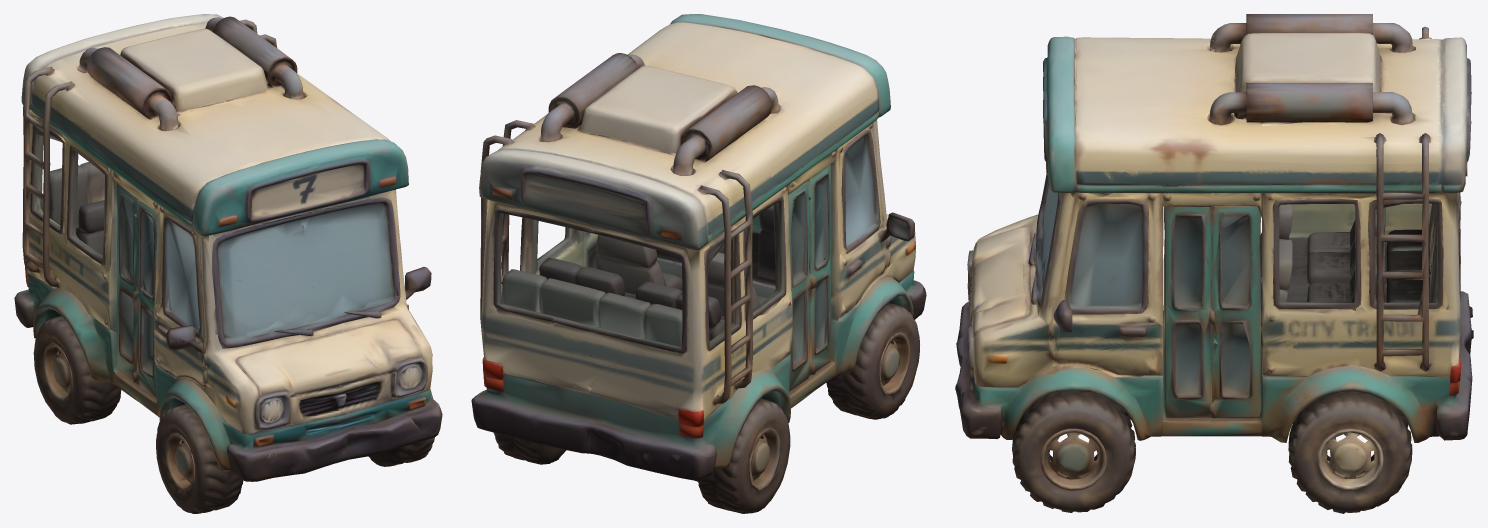
The model's file is city_bus.glb.
3 views of the same model, side by side, from view 1: azimuth 30°, elevation 25°; view 2: azimuth 150°, elevation 25°; view 3: azimuth 270°, elevation 25° (orthographic). The views are drawn at different scales.
Parts seen in each view (by area): view 1: tripo_part_1, tripo_part_0, tripo_part_8, tripo_part_7, tripo_part_2, tripo_part_6, tripo_part_19, tripo_part_15, tripo_part_9, tripo_part_13, tripo_part_5, tripo_part_34 (+8 smaller); view 2: tripo_part_1, tripo_part_0, tripo_part_2, tripo_part_6, tripo_part_7, tripo_part_5, tripo_part_19, tripo_part_9, tripo_part_15, tripo_part_24, tripo_part_20, tripo_part_22 (+11 smaller); view 3: tripo_part_1, tripo_part_0, tripo_part_2, tripo_part_10, tripo_part_7, tripo_part_4, tripo_part_3, tripo_part_17, tripo_part_22, tripo_part_29, tripo_part_14, tripo_part_43 (+7 smaller).
Part boxes in pixels (bbox=[...]): tripo_part_1: bbox=[21, 14, 432, 433]; tripo_part_0: bbox=[14, 274, 442, 513]; tripo_part_8: bbox=[212, 196, 400, 348]; tripo_part_7: bbox=[31, 87, 408, 241]; tripo_part_2: bbox=[76, 16, 306, 131]; tripo_part_6: bbox=[117, 184, 157, 398]; tripo_part_19: bbox=[33, 315, 121, 424]; tripo_part_15: bbox=[162, 215, 202, 339]; tripo_part_9: bbox=[22, 66, 75, 288]; tripo_part_13: bbox=[290, 372, 396, 424]; tripo_part_5: bbox=[43, 162, 104, 238]; tripo_part_34: bbox=[66, 145, 107, 265]; tripo_part_1: bbox=[479, 22, 915, 438]; tripo_part_0: bbox=[471, 270, 926, 481]; tripo_part_2: bbox=[537, 53, 781, 175]; tripo_part_6: bbox=[788, 164, 831, 391]; tripo_part_7: bbox=[670, 14, 890, 242]; tripo_part_5: bbox=[500, 269, 682, 346]; tripo_part_19: bbox=[698, 398, 790, 513]; tripo_part_9: bbox=[698, 170, 752, 405]; tripo_part_15: bbox=[841, 129, 880, 254]; tripo_part_24: bbox=[595, 235, 672, 294]; tripo_part_20: bbox=[539, 257, 635, 298]; tripo_part_22: bbox=[480, 120, 535, 331]; tripo_part_1: bbox=[967, 37, 1471, 395]; tripo_part_0: bbox=[955, 291, 1473, 442]; tripo_part_2: bbox=[1207, 14, 1415, 126]; tripo_part_10: bbox=[1164, 206, 1261, 418]; tripo_part_7: bbox=[1043, 36, 1441, 198]; tripo_part_4: bbox=[1288, 391, 1412, 513]; tripo_part_3: bbox=[1012, 391, 1135, 512]; tripo_part_17: bbox=[1064, 197, 1148, 314]; tripo_part_22: bbox=[1374, 133, 1431, 371]; tripo_part_29: bbox=[1053, 300, 1163, 356]; tripo_part_14: bbox=[1040, 428, 1106, 490]; tripo_part_43: bbox=[1210, 205, 1260, 301].
Bounding box in the file's own units: 0.6478 × 0.8406 × 0.9801.
1 material, 1 textured.
